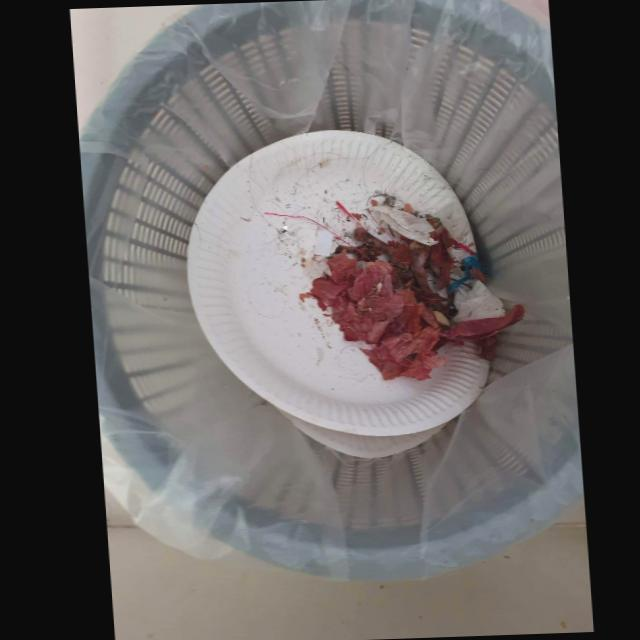biowaste: (308, 248, 524, 380), (331, 228, 456, 316)
paper: (184, 128, 487, 436), (272, 406, 445, 458)
